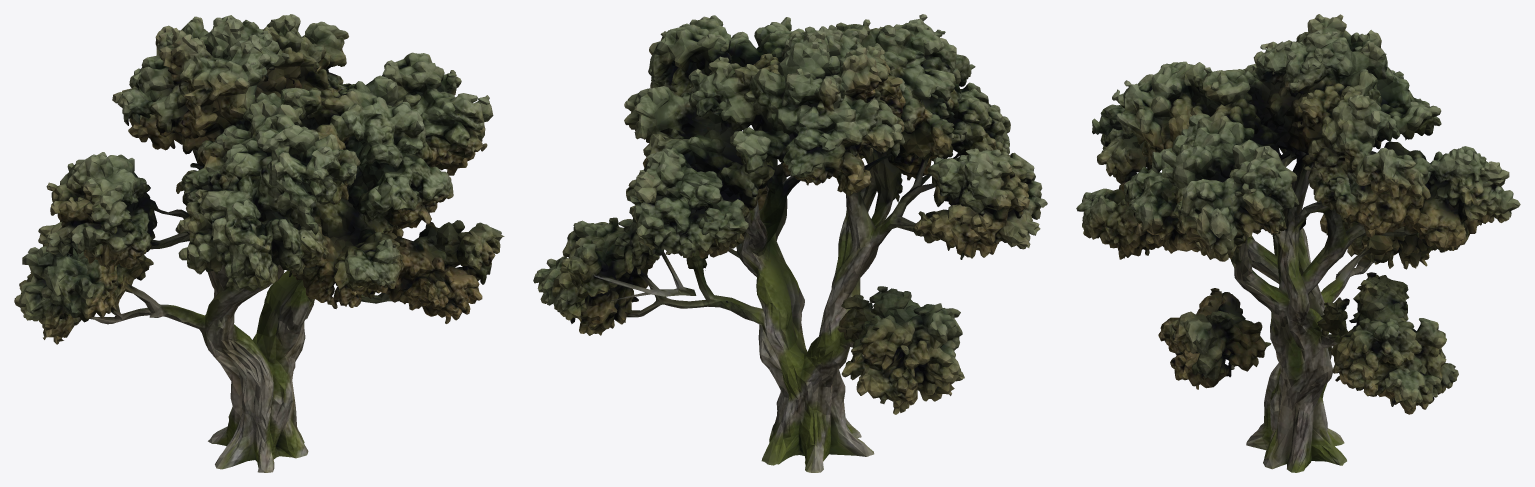
File: oak.glb
3 renders of one model, left to right at view 1: azimuth 30°, elevation 25°; view 2: azimuth 150°, elevation 25°; view 3: azimuth 270°, elevation 25°, orthographic. The views are drawn at different scales.
Parts seen in each view (by area): view 1: world; view 2: world; view 3: world.
Part boxes in pixels (x1,y1,x2,y2): world: [14, 14, 504, 472]; world: [533, 14, 1047, 472]; world: [1076, 14, 1520, 472].
Size of the model in its own units: 0.9993 by 0.939 by 0.913.
Materials: 1 (1 with a texture image).
